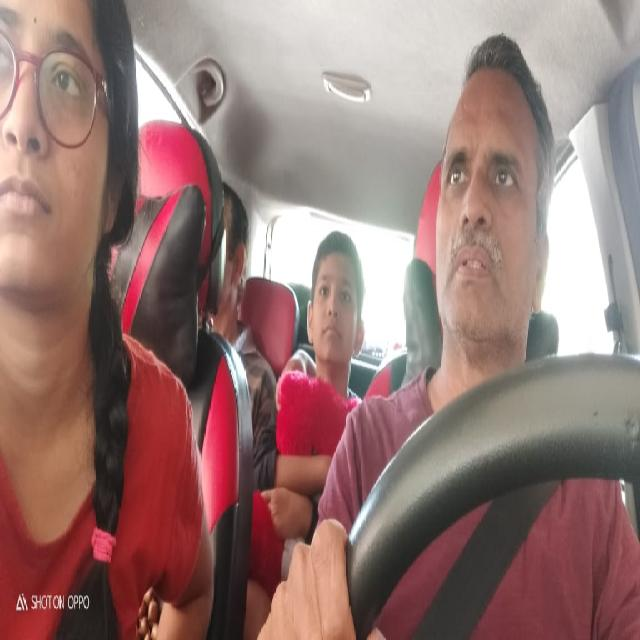person: (0, 0, 135, 362), (430, 27, 552, 355), (307, 225, 367, 396)
